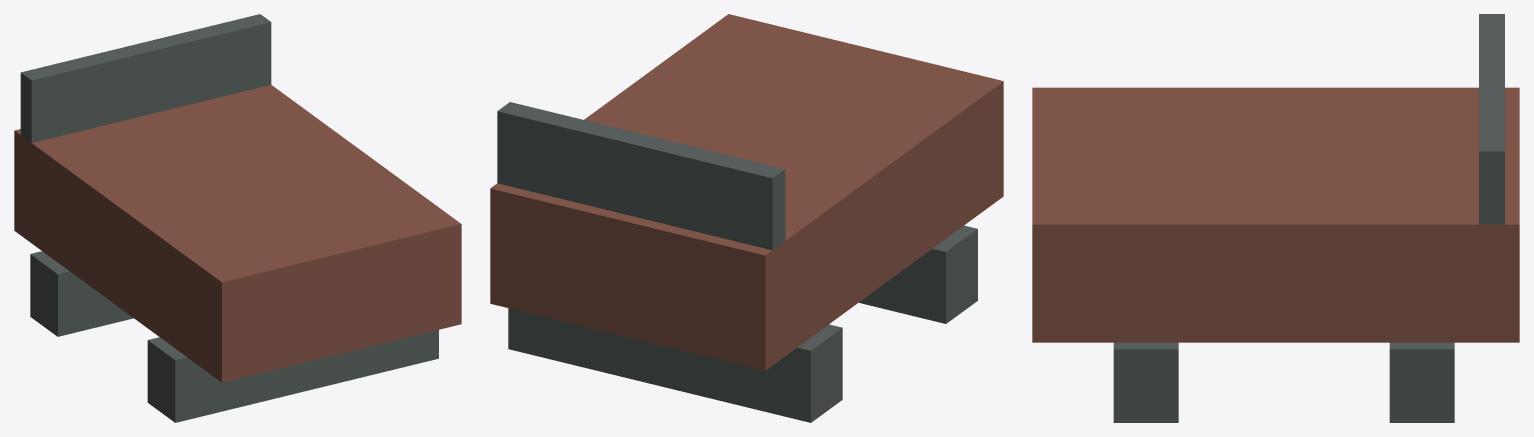
The model's file is ENV_F_MaintenanceCart.fbx.
The picture shows the model from 3 angles, left to right: view 1: azimuth 30°, elevation 25°; view 2: azimuth 150°, elevation 25°; view 3: azimuth 270°, elevation 25°; orthographic projection. The views are drawn at different scales.
Parts seen in each view (by area): view 1: PL_ENV_F_MaintenanceCart; view 2: PL_ENV_F_MaintenanceCart; view 3: PL_ENV_F_MaintenanceCart.
Boxes of the visible parts, x1,y1,x2,y2 form: PL_ENV_F_MaintenanceCart: [14, 14, 461, 422]; PL_ENV_F_MaintenanceCart: [490, 14, 1003, 422]; PL_ENV_F_MaintenanceCart: [1032, 14, 1519, 422].
Size of the model in its own units: 220 by 180 by 300.
